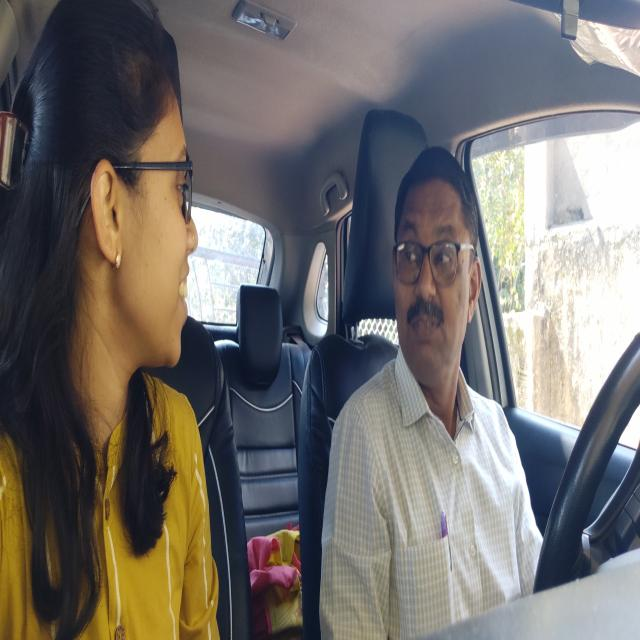LeftRight: (389, 142, 483, 421)
person: (2, 3, 206, 430)
talking: (403, 300, 444, 346), (174, 265, 198, 324)
